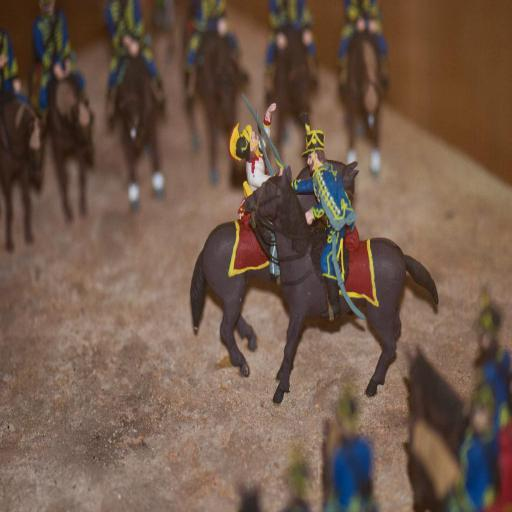Horse: (242, 162, 440, 405), (188, 154, 360, 376), (182, 32, 248, 182), (112, 52, 167, 212), (41, 76, 96, 224), (0, 95, 50, 251), (336, 30, 383, 178), (402, 346, 469, 448), (266, 29, 316, 150), (402, 417, 462, 511)
